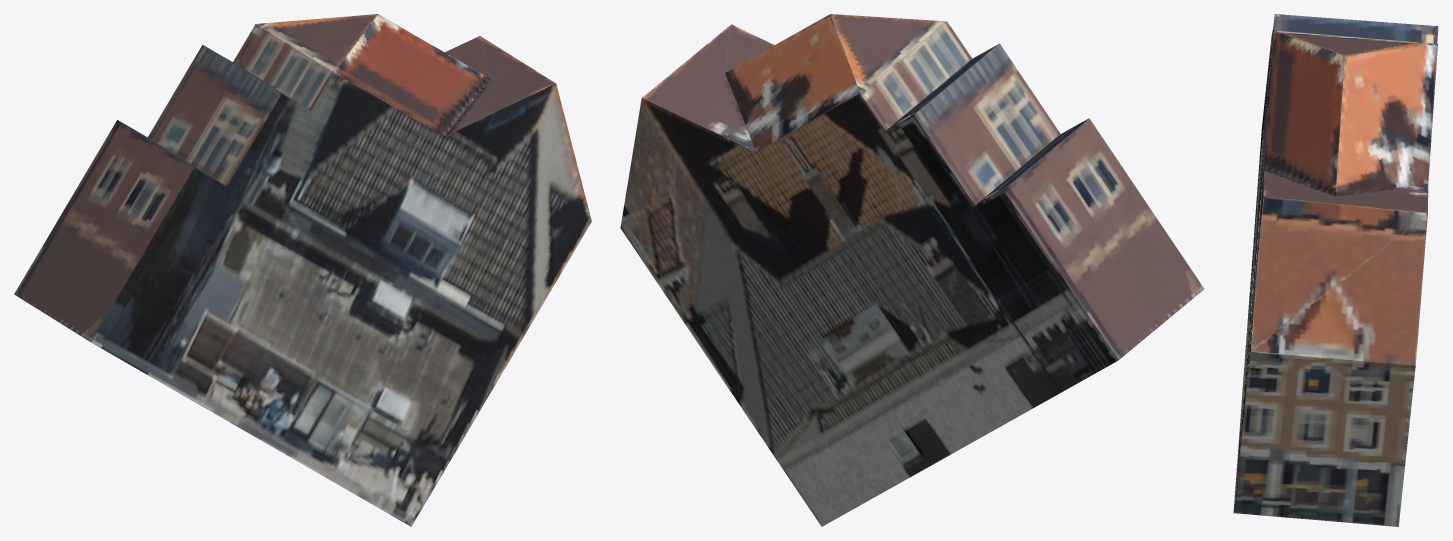
3 renders of one model, left to right at view 1: azimuth 30°, elevation 25°; view 2: azimuth 150°, elevation 25°; view 3: azimuth 270°, elevation 25°, orthographic.
Parts seen in each view (by area): view 1: BAG_0599100000671716 (×2); view 2: BAG_0599100000671716 (×3); view 3: BAG_0599100000671716 (×3).
Boxes of the visible parts, box(x1,y1,x2,y2) form: BAG_0599100000671716 (×2): box(14, 14, 591, 526); BAG_0599100000671716 (×3): box(620, 14, 1204, 526); BAG_0599100000671716 (×3): box(1233, 14, 1438, 526).
Bounding box in the file's own units: 18.85 × 17.34 × 6.71.
3 materials, 3 textured.
